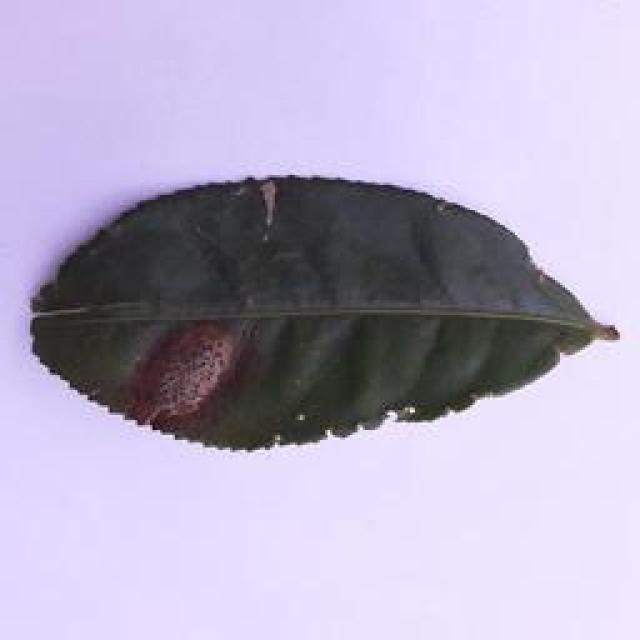Gray Blight: (27, 168, 626, 456)
